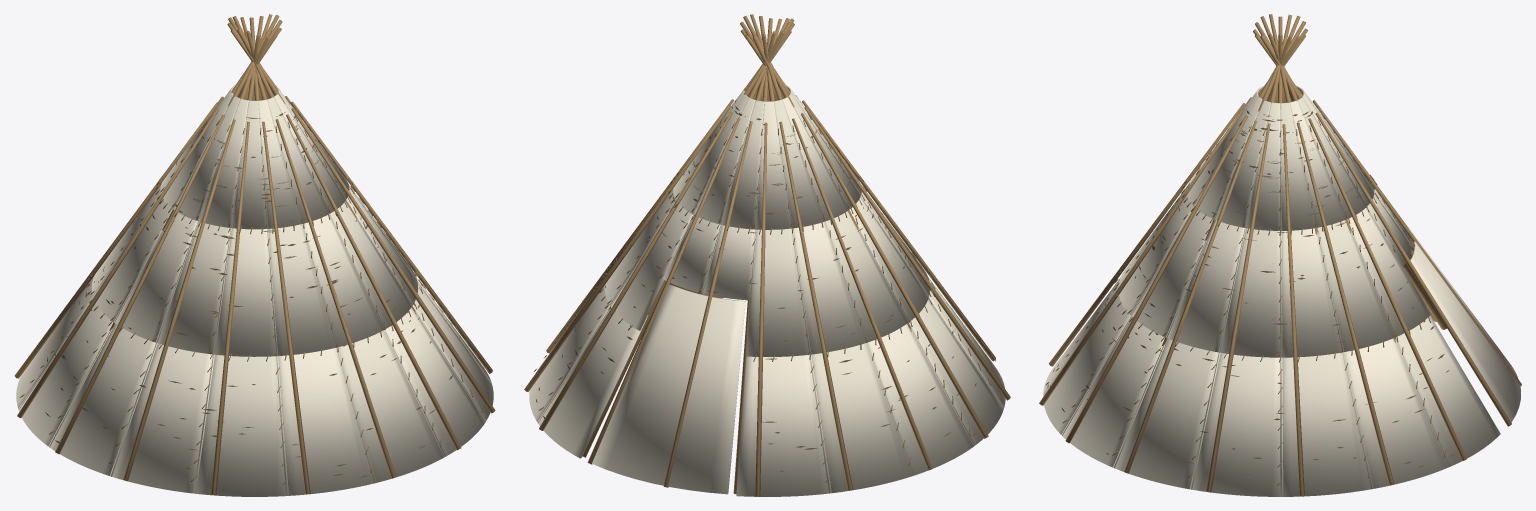
Rendered from wigwam.glb.
3 renders of one model, left to right at view 1: azimuth 30°, elevation 25°; view 2: azimuth 150°, elevation 25°; view 3: azimuth 270°, elevation 25°, orthographic.
Parts seen in each view (by area): view 1: overlapping_birch_sheets_and_door, inner_and_outer_poles, sewn_panel_seams; view 2: overlapping_birch_sheets_and_door, inner_and_outer_poles, sewn_panel_seams; view 3: overlapping_birch_sheets_and_door, inner_and_outer_poles, sewn_panel_seams.
Part boxes in pixels (<box>): overlapping_birch_sheets_and_door: <box>16,82,493,496</box>; inner_and_outer_poles: <box>14,14,495,495</box>; sewn_panel_seams: <box>20,102,489,484</box>; overlapping_birch_sheets_and_door: <box>529,82,1005,496</box>; inner_and_outer_poles: <box>524,14,1010,496</box>; sewn_panel_seams: <box>534,101,1000,482</box>; overlapping_birch_sheets_and_door: <box>1043,85,1520,496</box>; inner_and_outer_poles: <box>1039,14,1521,496</box>; sewn_panel_seams: <box>1045,113,1446,485</box>.
Bounding box in the file's own units: 4.07 × 3.49 × 4.07.
